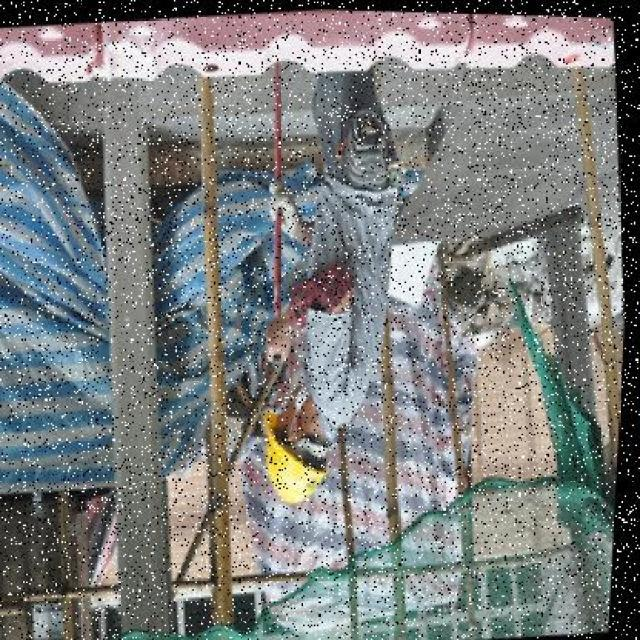helmet: (262, 408, 338, 505)
